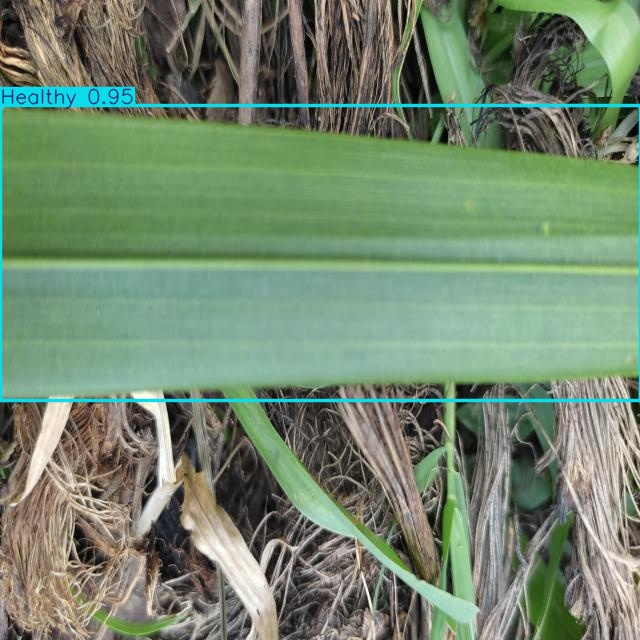Healthy: (0, 105, 640, 400)
